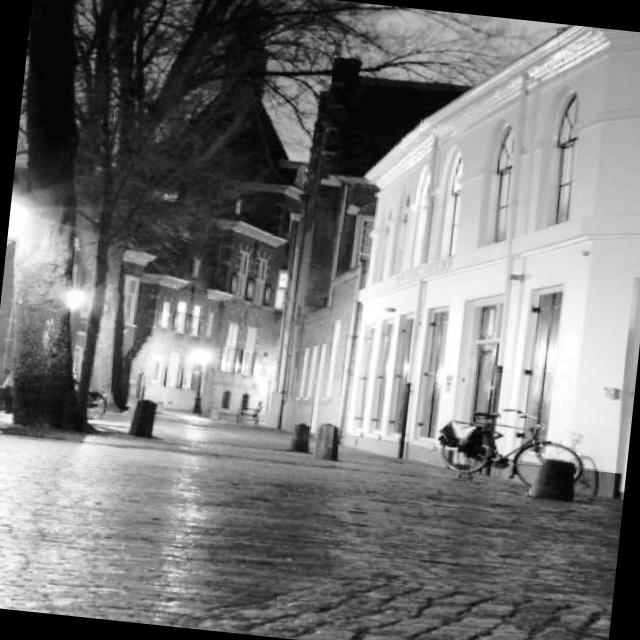Bicycle: (380, 396, 600, 498)
